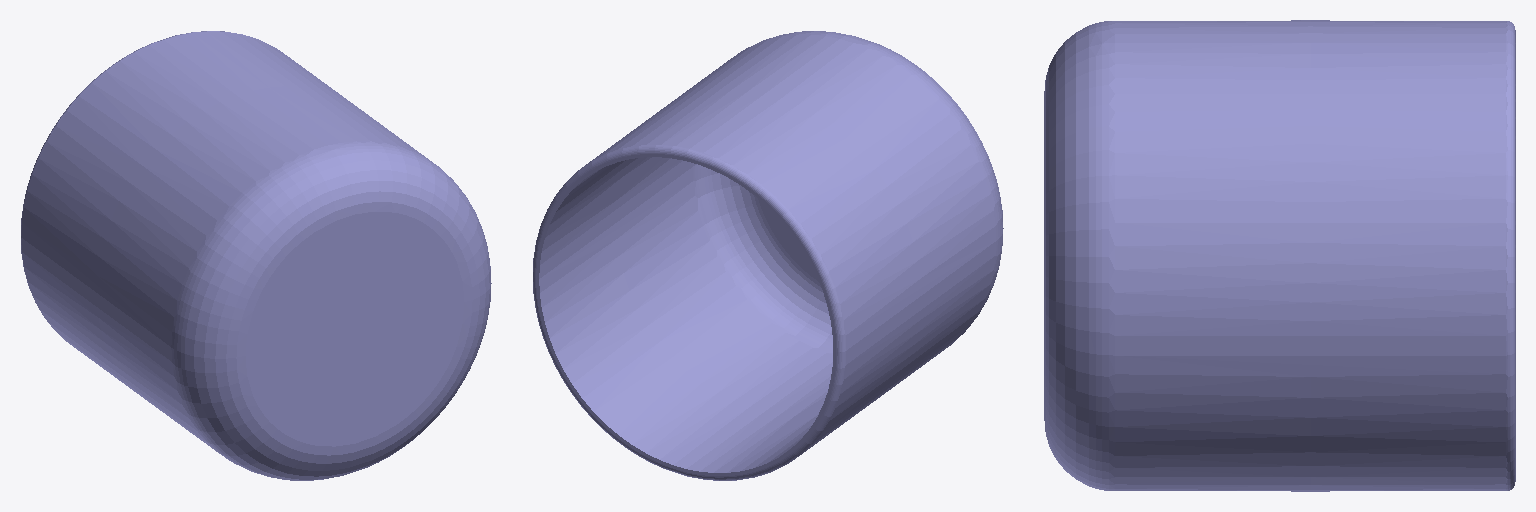
URDF robot description (cup.urdf):
<?xml version="0.0"?>
<robot name="cup.urdf">
    <link name="base_link">

        <contact>
        <lateral_friction value="1.0"/>
        </contact>

        <visual>
            <geometry>
                <mesh filename="cup.obj" scale="1 1 1"/>
            </geometry>
            <material name="pastel_purple">
                <color rgba="0.64 0.64 0.85 1"/>
            </material>
        </visual>

        <collision>
            <geometry>
                <mesh filename="cup_vhacd2.obj" scale="1 1 1"/>
            </geometry>
            <bullet collisionMargin="0.0001" mesh="gimpact"/>
        </collision>

        <inertial>
            <mass value="0.15"/>
            <origin xyz="0 0 0"/>
            <inertia ixx="0.01" ixy="0" ixz="0" iyy="0.01" iyz="0" izz="0.01"/>
        </inertial>
    </link>
</robot>

--- Render facts (derived) ---
3 views of the same robot in one strip: view 1: azimuth 30°, elevation 25°; view 2: azimuth 150°, elevation 25°; view 3: azimuth 270°, elevation 25° (orthographic).
Robot: cup.urdf — 1 links, 0 joints (none); root link base_link; default pose: every joint at zero.
Links seen in each view (by area): view 1: base_link; view 2: base_link; view 3: base_link.
Link boxes in pixels (x1,y1,x2,y2): base_link: (21, 31, 491, 480); base_link: (533, 31, 1003, 480); base_link: (1044, 20, 1515, 491).
Size in the robot's own frame: 0.1 by 0.1 by 0.1 metres.
Meshes: 1 distinct files referenced, 1 mesh visuals loaded (1 OBJ).